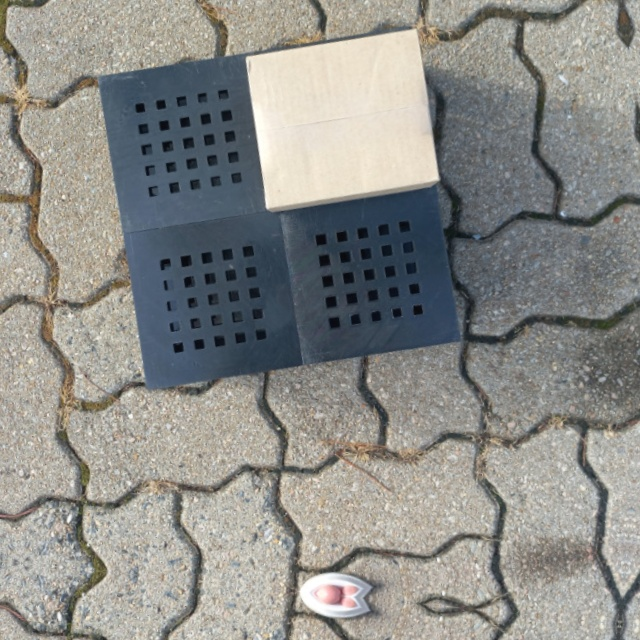box: (243, 25, 442, 214)
pallet: (91, 22, 475, 398)
